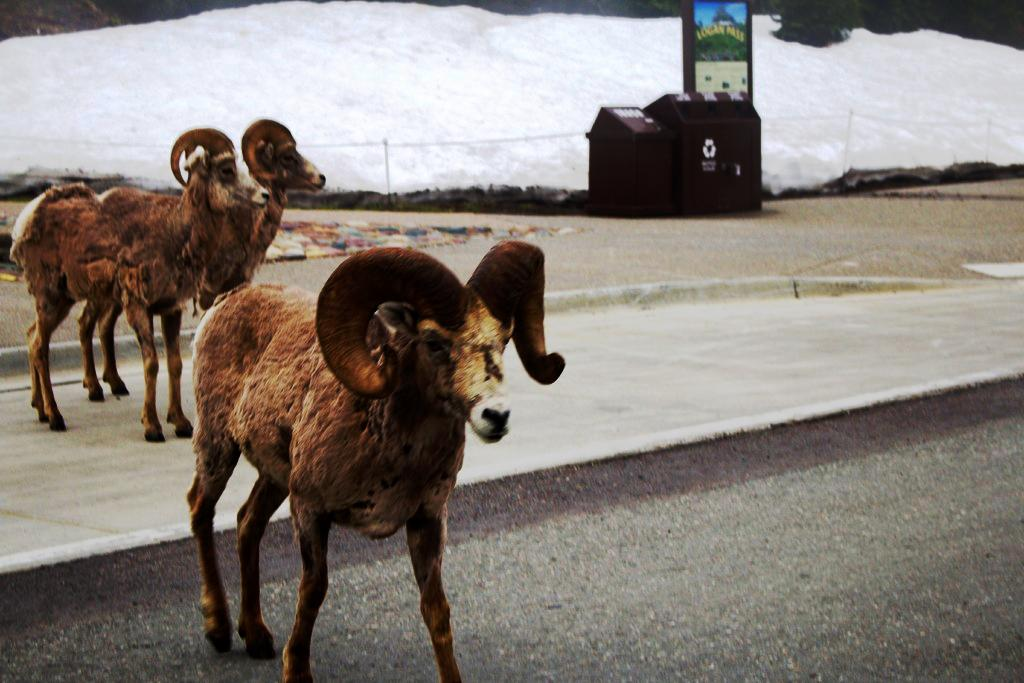Sheep: (188, 238, 570, 683), (10, 123, 271, 436), (77, 116, 328, 401)
